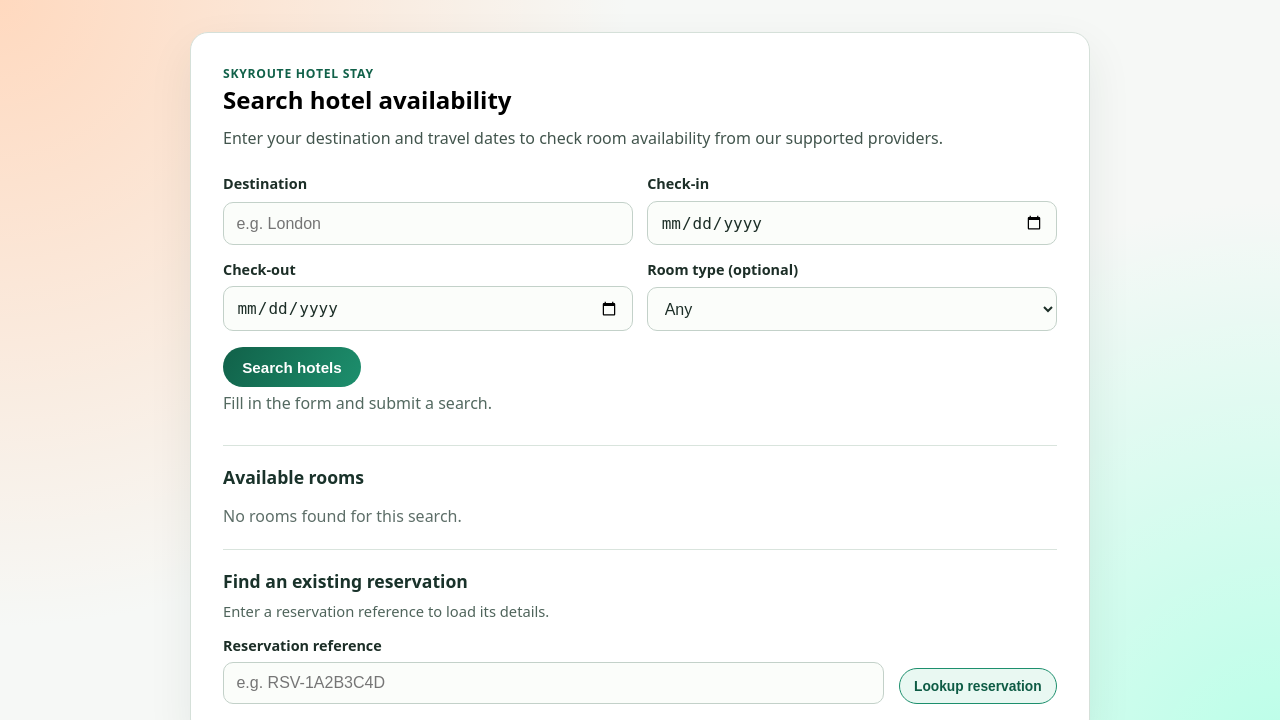
Test: App — lookup not-found state › shows a not-found message when lookup returns null
The image size is (1280, 720).
Type "RSV-UNKNOWN" into the field with placeholder "e.g. RSV-1A2B3C4D" at (554, 683), box [223,662,884,704]
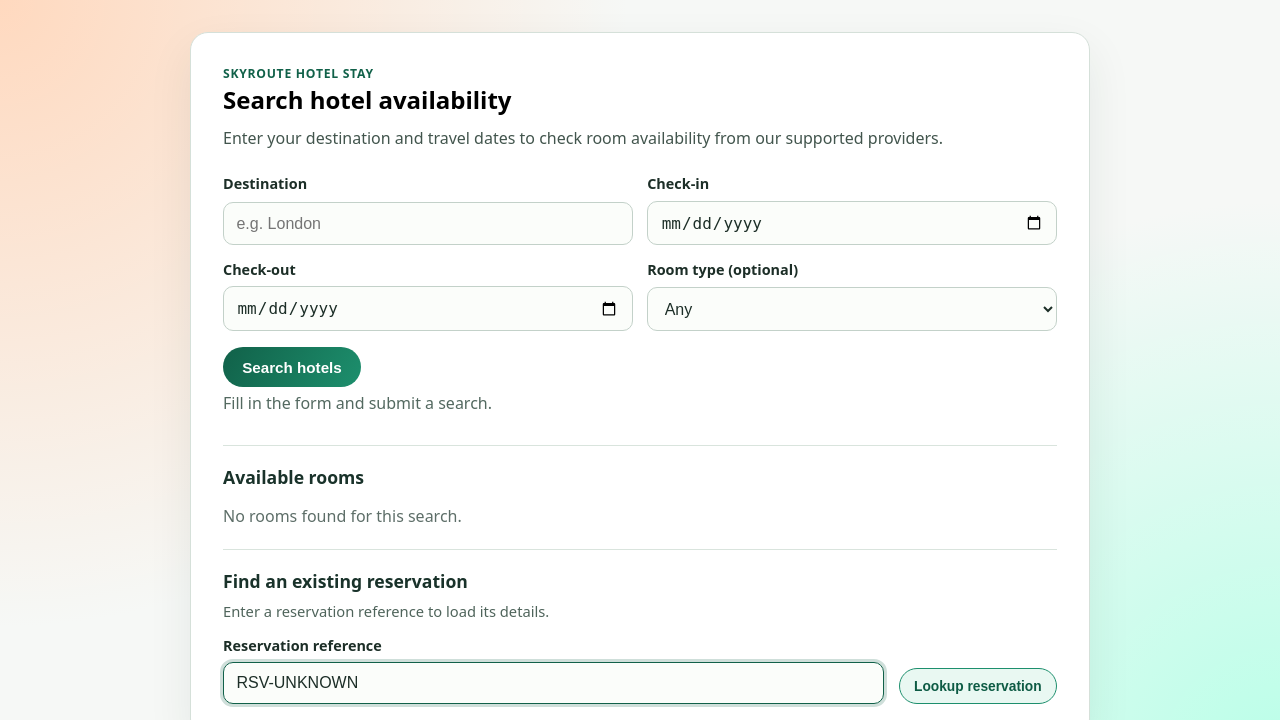
Click the button "Lookup reservation" at (978, 686), box [899,668,1057,704]
(page scrolled)
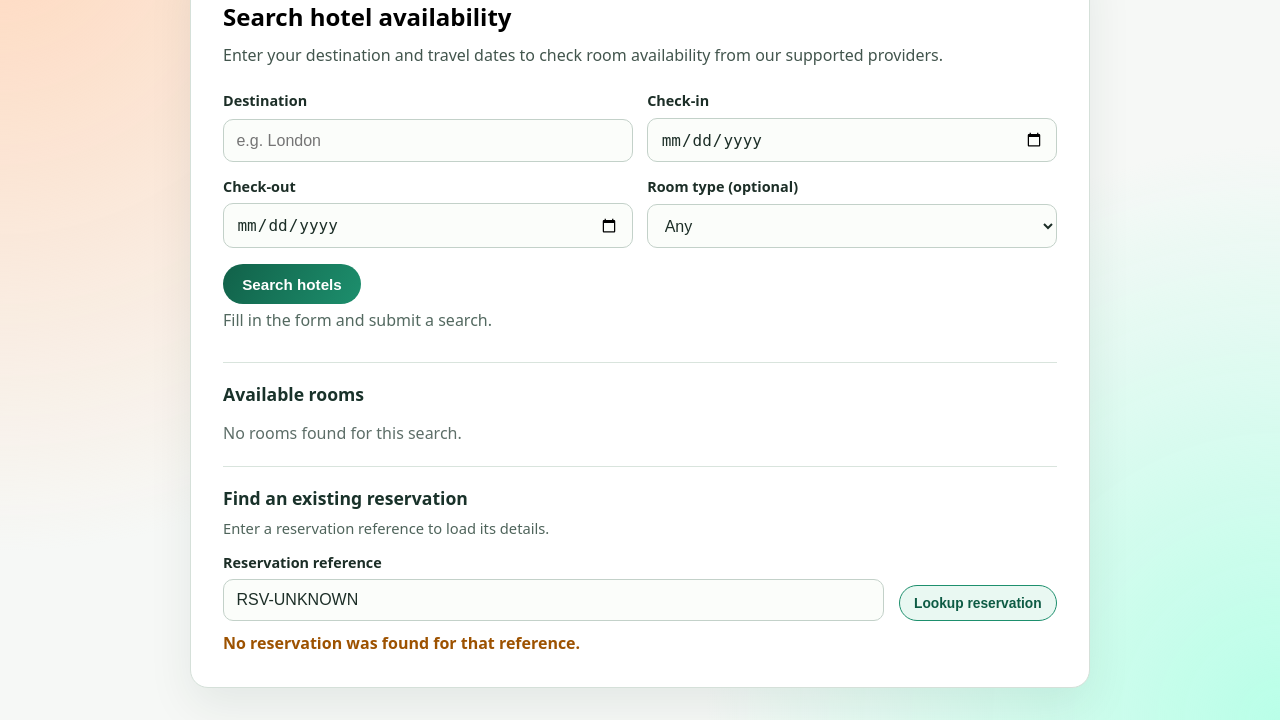
Result: the text "No reservation was found for that reference." is shown at [223,632,580,654]
